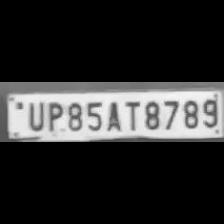5: (84, 100, 104, 132)
7: (160, 98, 178, 132)
8: (140, 98, 162, 132), (180, 97, 200, 130), (64, 100, 82, 132)
9: (200, 96, 218, 128)
A: (104, 98, 122, 132)
P: (44, 99, 64, 133)
T: (122, 98, 140, 132)
U: (23, 100, 45, 132)
